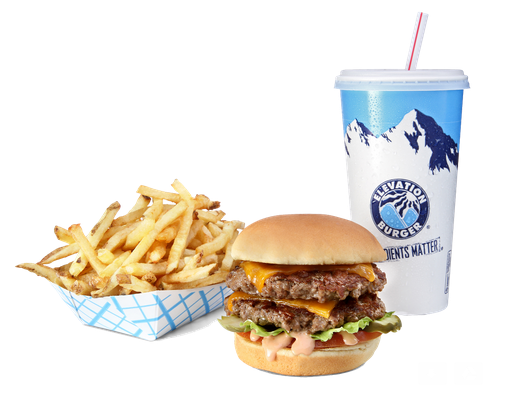soup: (218, 213, 401, 376)
